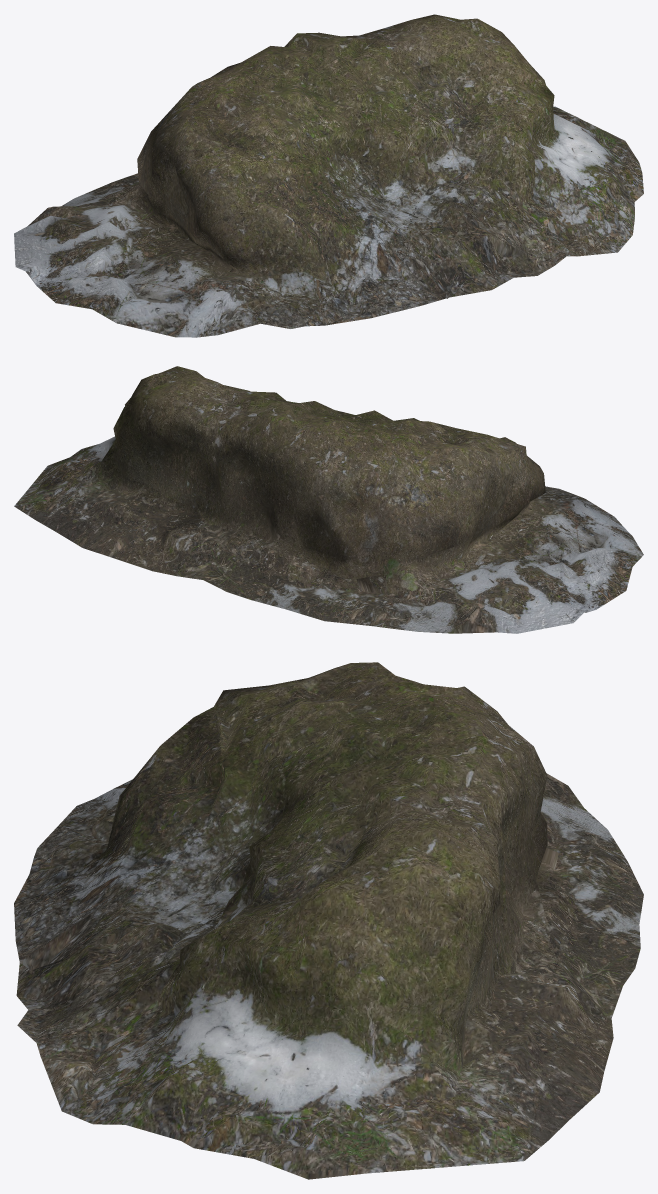
File: PX_Mossy_Stone_01_LOD5.fbx
The picture shows the model from 3 angles, top to bottom: view 1: azimuth 30°, elevation 25°; view 2: azimuth 150°, elevation 25°; view 3: azimuth 270°, elevation 25°; orthographic projection. The views are drawn at different scales.
Visible parts, largest first — view 1: PX_Mossy_Stone_01_LOD5; view 2: PX_Mossy_Stone_01_LOD5; view 3: PX_Mossy_Stone_01_LOD5.
Part boxes in pixels (x1,y1,x2,y2): PX_Mossy_Stone_01_LOD5: [14, 14, 643, 337]; PX_Mossy_Stone_01_LOD5: [14, 366, 643, 633]; PX_Mossy_Stone_01_LOD5: [14, 662, 643, 1179].
Bounding box in the file's own units: 241 × 62.73 × 148.
